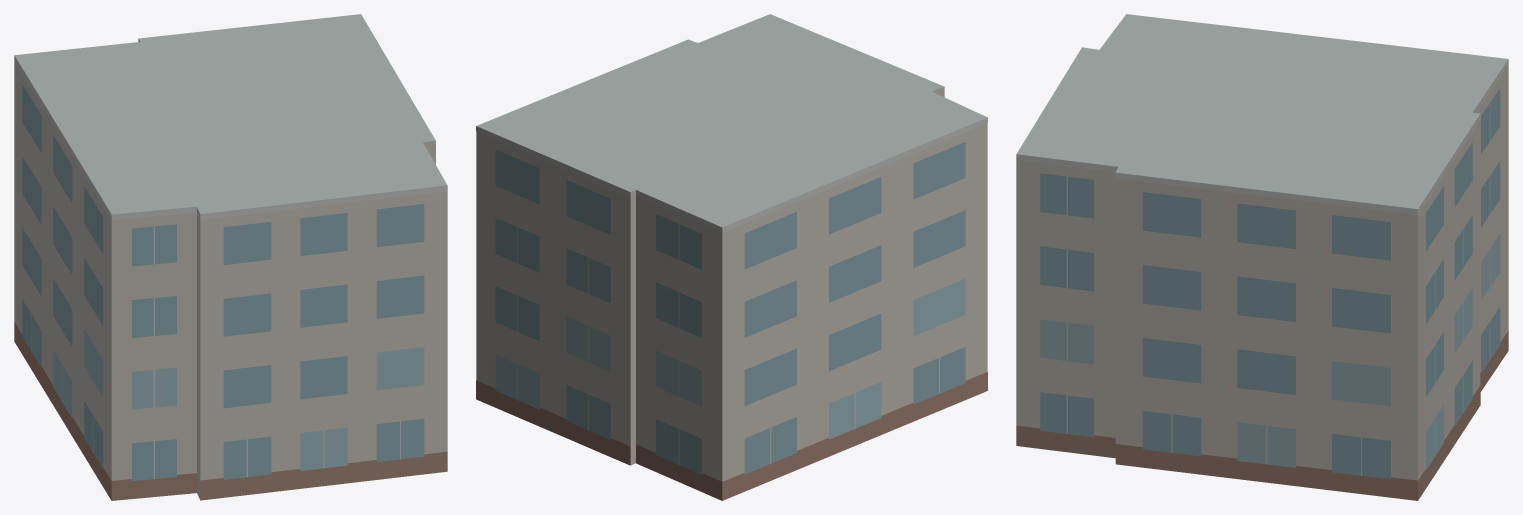
Rendered from survey-upis-32597775.glb.
3 views of the same model, side by side, from view 1: azimuth 30°, elevation 25°; view 2: azimuth 150°, elevation 25°; view 3: azimuth 270°, elevation 25° (orthographic). The views are drawn at different scales.
Visible parts, largest first — view 1: survey-upis-32597775.tmp; view 2: survey-upis-32597775.tmp; view 3: survey-upis-32597775.tmp.
Boxes of the visible parts, left/top/right/bottom form: survey-upis-32597775.tmp: left=14, top=14, right=447, bottom=500; survey-upis-32597775.tmp: left=476, top=14, right=987, bottom=500; survey-upis-32597775.tmp: left=1016, top=14, right=1508, bottom=500.
Bounding box in the file's own units: 17.37 × 12.1 × 18.51.
